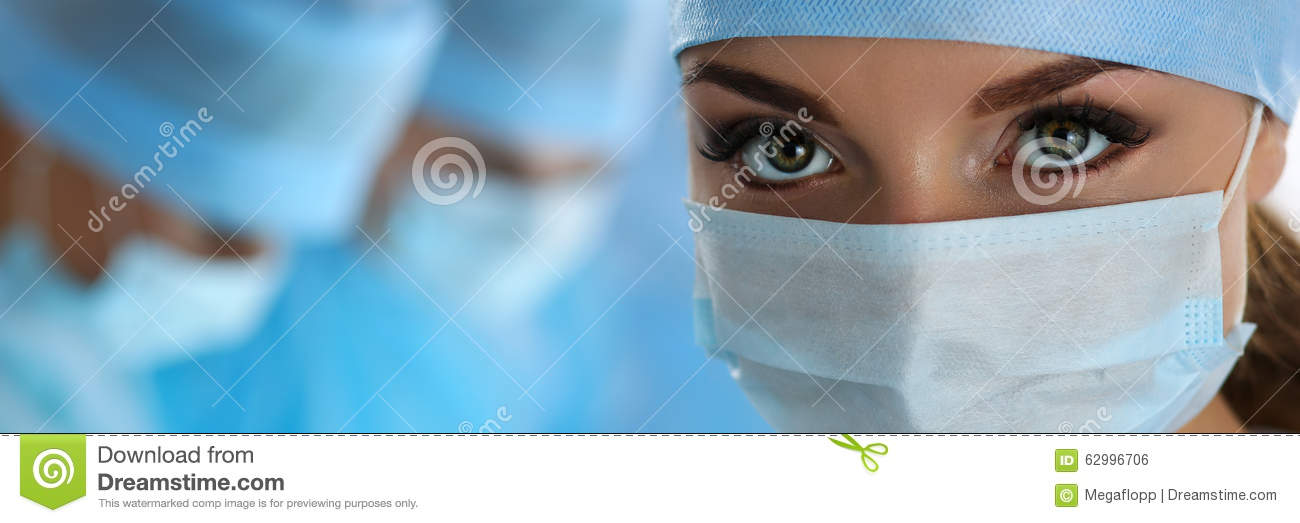mask: (680, 195, 1251, 447)
